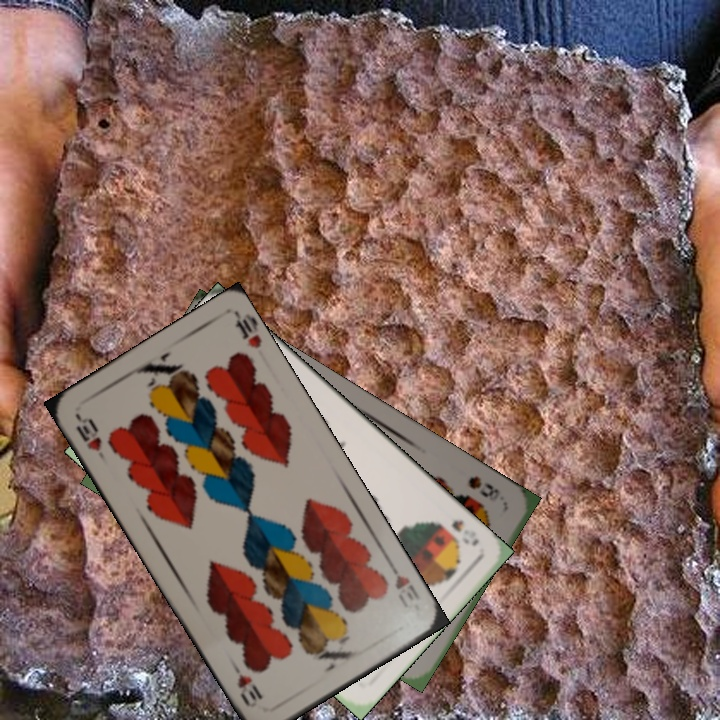H10: (384, 558, 423, 611), (72, 411, 110, 465)
S8: (464, 471, 502, 500)
SO: (447, 515, 482, 549)
